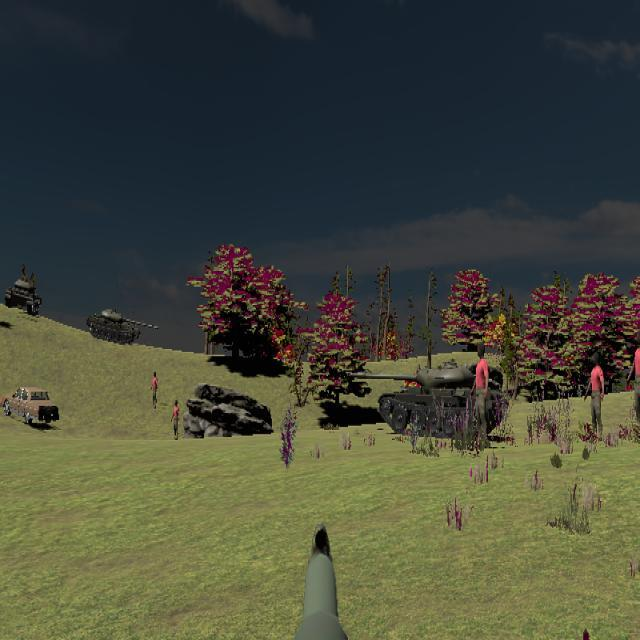Human: (471, 343, 490, 450), (584, 352, 604, 443), (626, 334, 640, 438)
Tank: (347, 362, 503, 439), (86, 308, 159, 345), (5, 276, 42, 316)
car: (1, 386, 59, 426)
